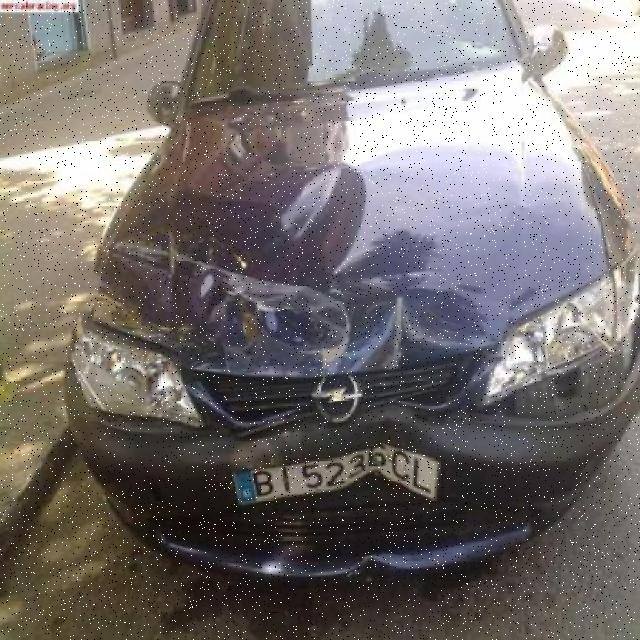damage: (66, 239, 628, 511), (252, 158, 377, 299), (347, 555, 402, 588)
